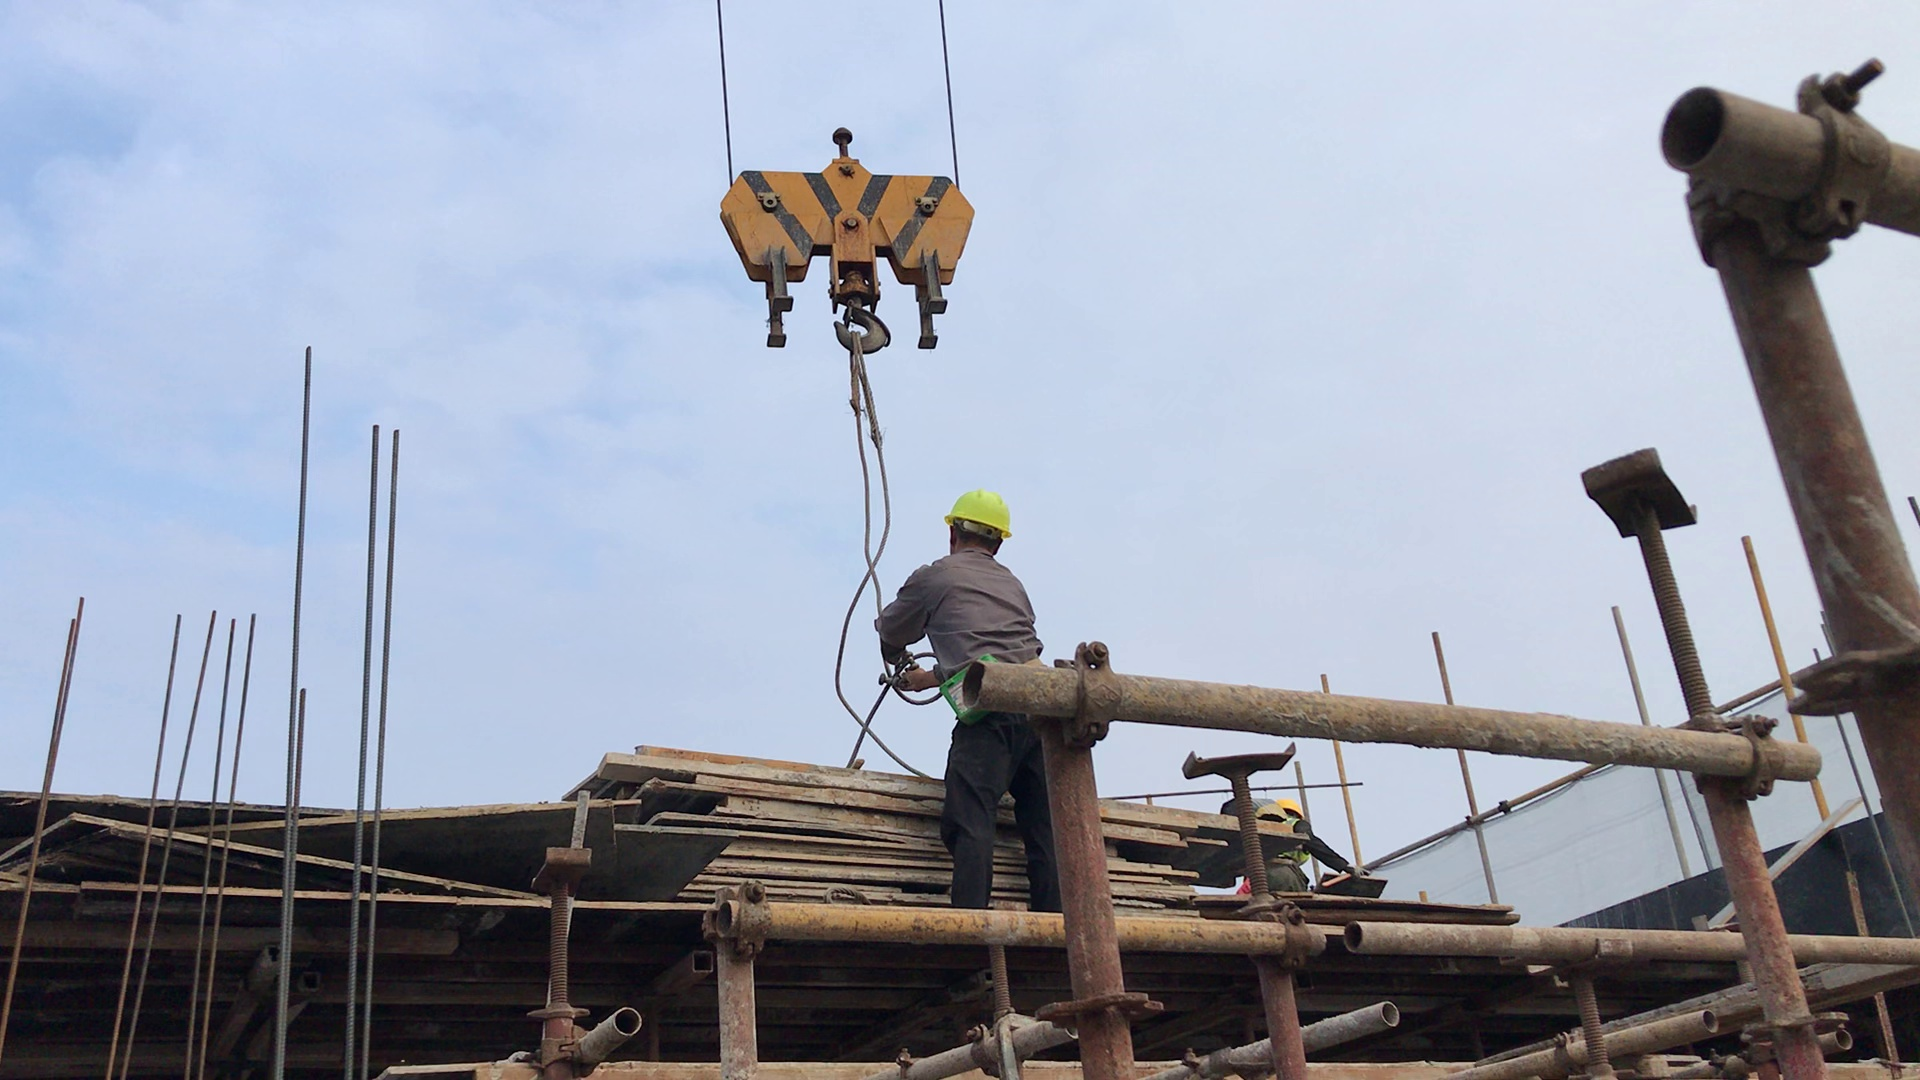board: (606, 745, 1315, 923)
helmet: (940, 485, 1016, 535)
hook: (720, 129, 975, 351)
person: (875, 488, 1069, 915)
